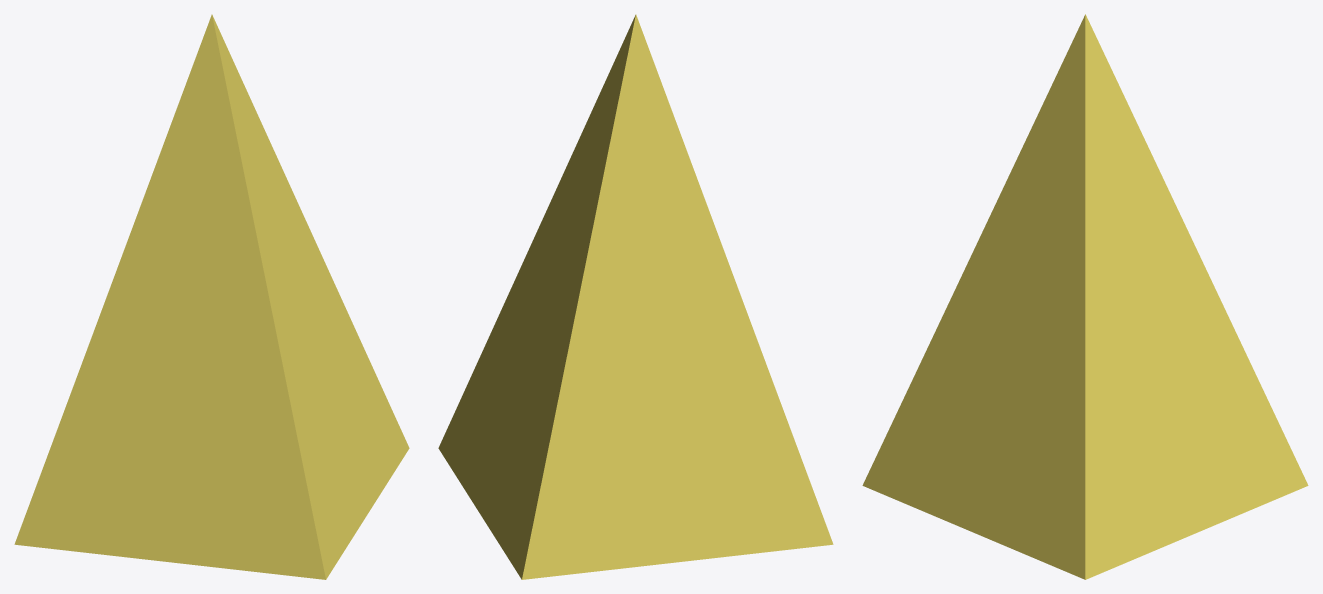
The model's file is wet_floor_sign.glb.
3 views of the same model, side by side, from view 1: azimuth 30°, elevation 25°; view 2: azimuth 150°, elevation 25°; view 3: azimuth 270°, elevation 25° (orthographic). The views are drawn at different scales.
Visible parts, largest first — view 1: sign; view 2: sign; view 3: sign.
Part boxes in pixels (x1,y1,x2,y2): sign: (14,14,409,579); sign: (438,14,833,579); sign: (862,14,1308,579).
Size of the model in its own units: 0.6 by 0.7 by 0.6.
